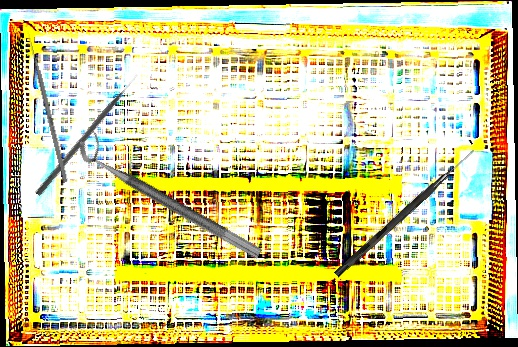Fixation Ring: (73, 127, 272, 261)
Hook Surgical: (333, 145, 477, 280)
Pusher: (34, 72, 142, 198), (25, 30, 69, 183)
